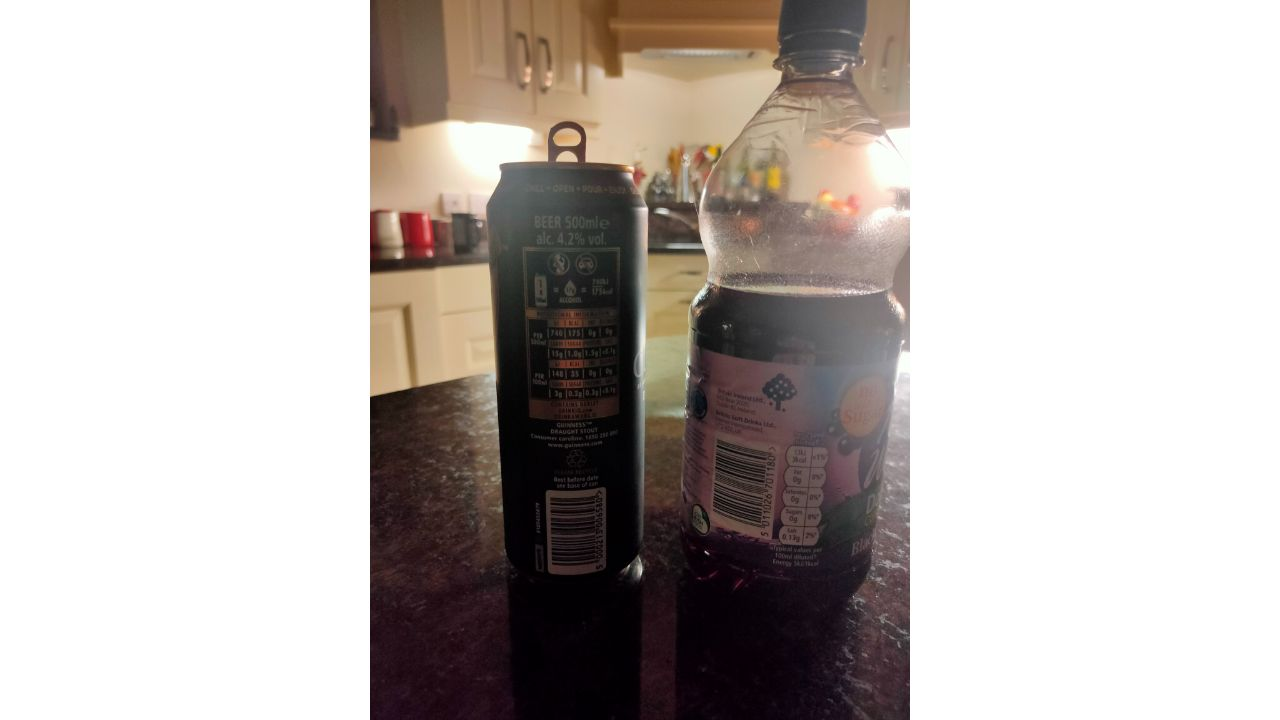Can: (479, 121, 657, 592)
